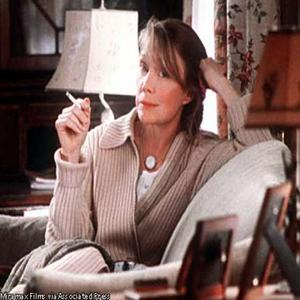cigarette: (66, 93, 80, 107)
